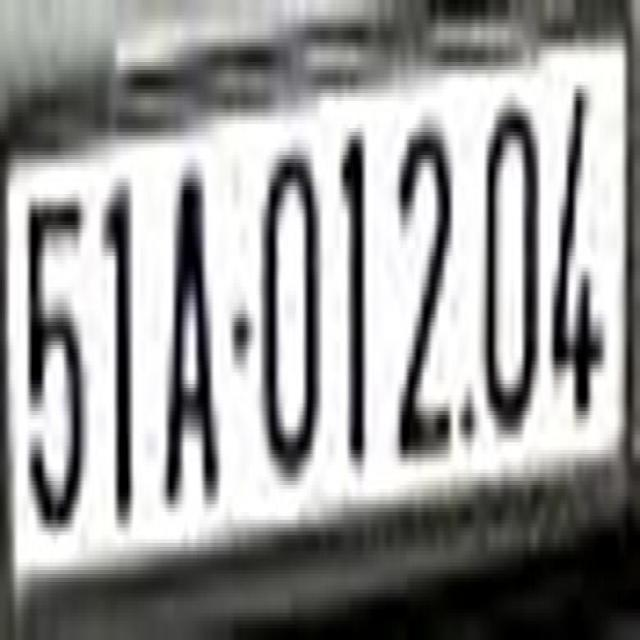0: (255, 128, 322, 508), (478, 89, 538, 446)
1: (95, 159, 143, 543), (333, 97, 370, 473)
2: (389, 124, 454, 489)
4: (546, 70, 606, 427)
5: (26, 190, 83, 547)
A: (158, 147, 224, 512)
